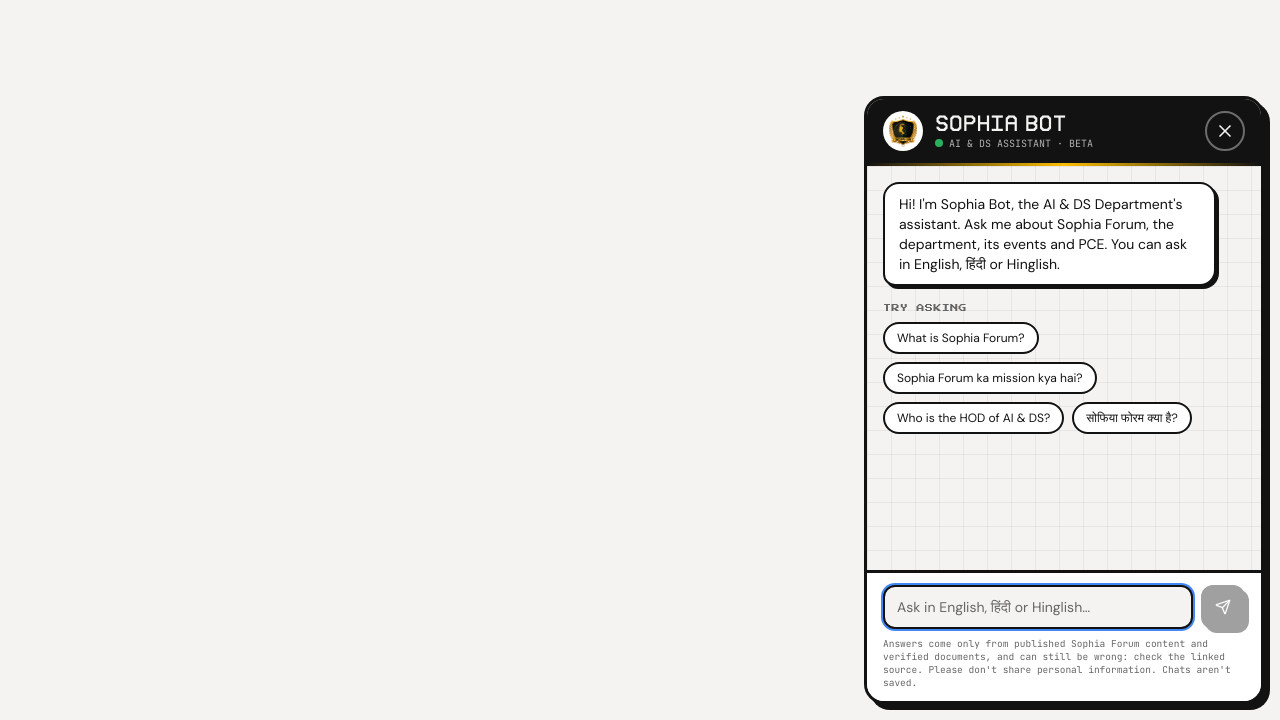
Test: chat panel › rate limiting and network errors get a friendly message
Type "hi" into the text box named "Your question" at (1038, 607), box [883,585,1193,629]
Then press Enter
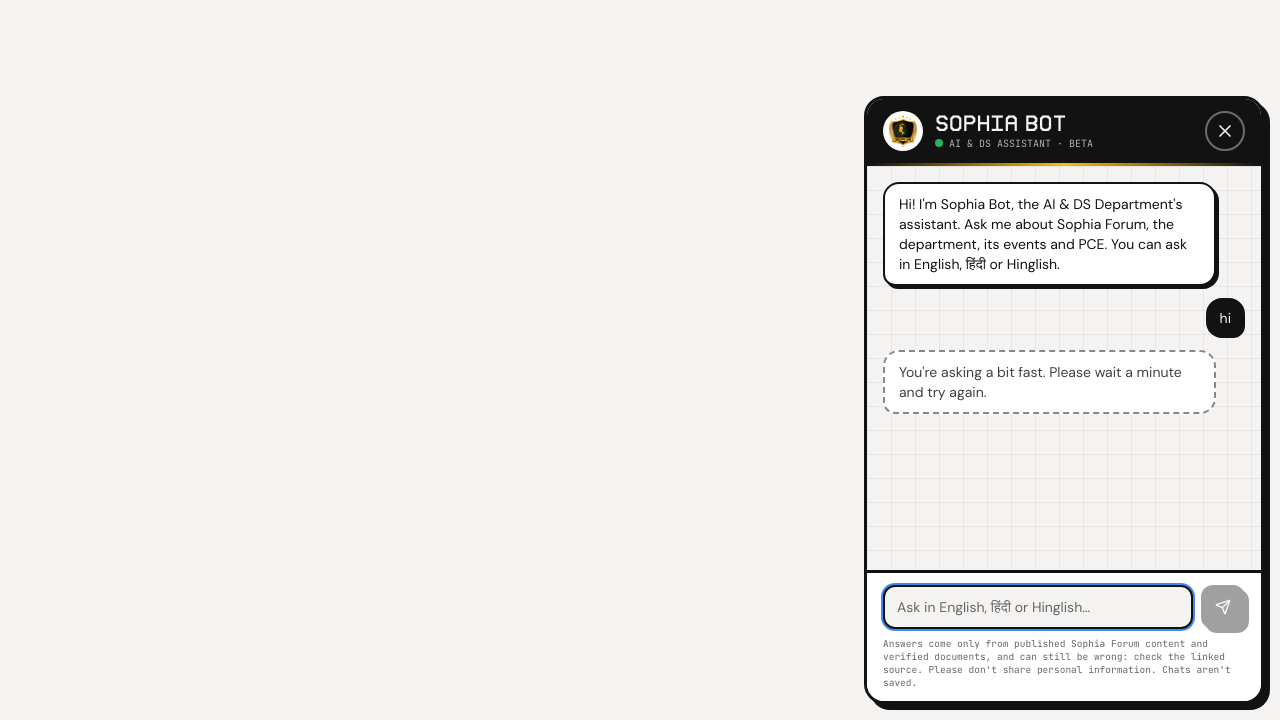
Expected: the text "asking a bit fast" is shown, [899,363,1182,401]
Type "hi again" into the text box named "Your question" at (1038, 607), box [883,585,1193,629]
Then press Enter
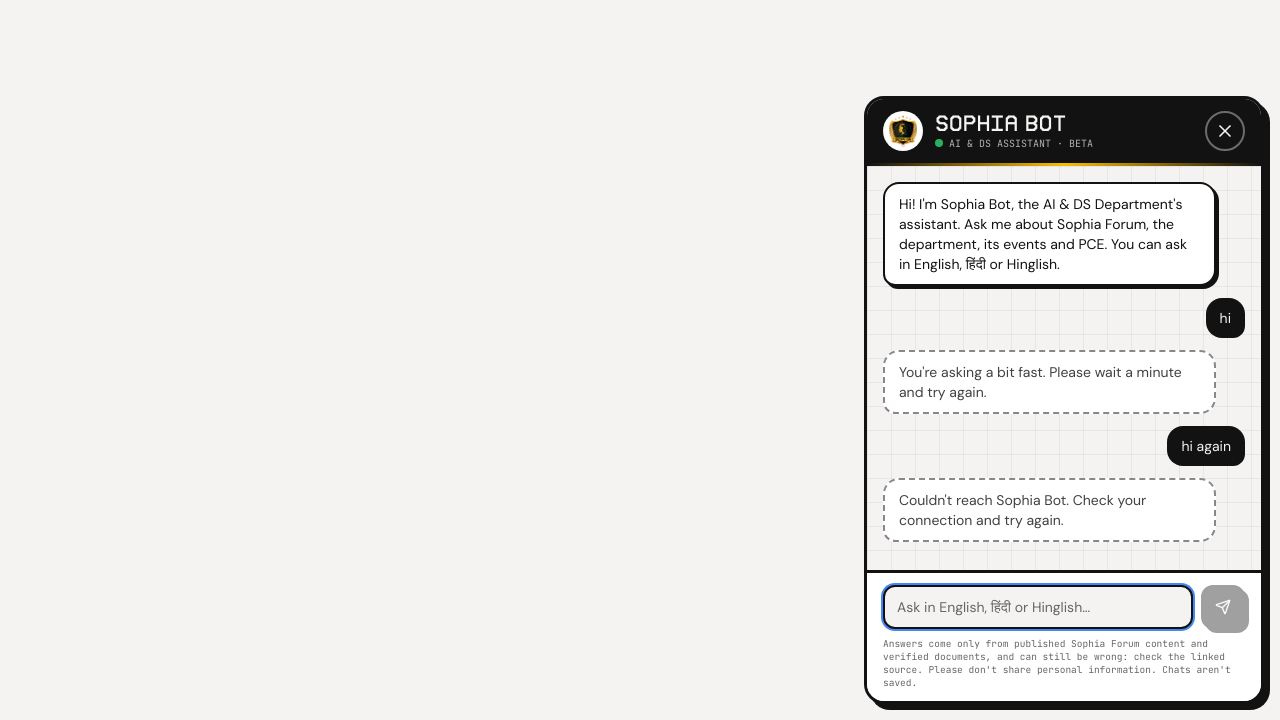
Expected: the text "Couldn't reach Sophia Bot" is shown, [899,491,1146,529]
